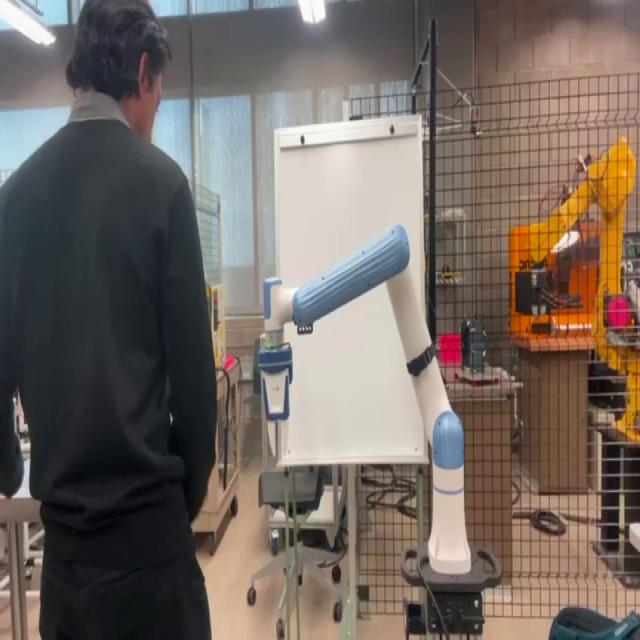robot: (249, 222, 503, 638)
